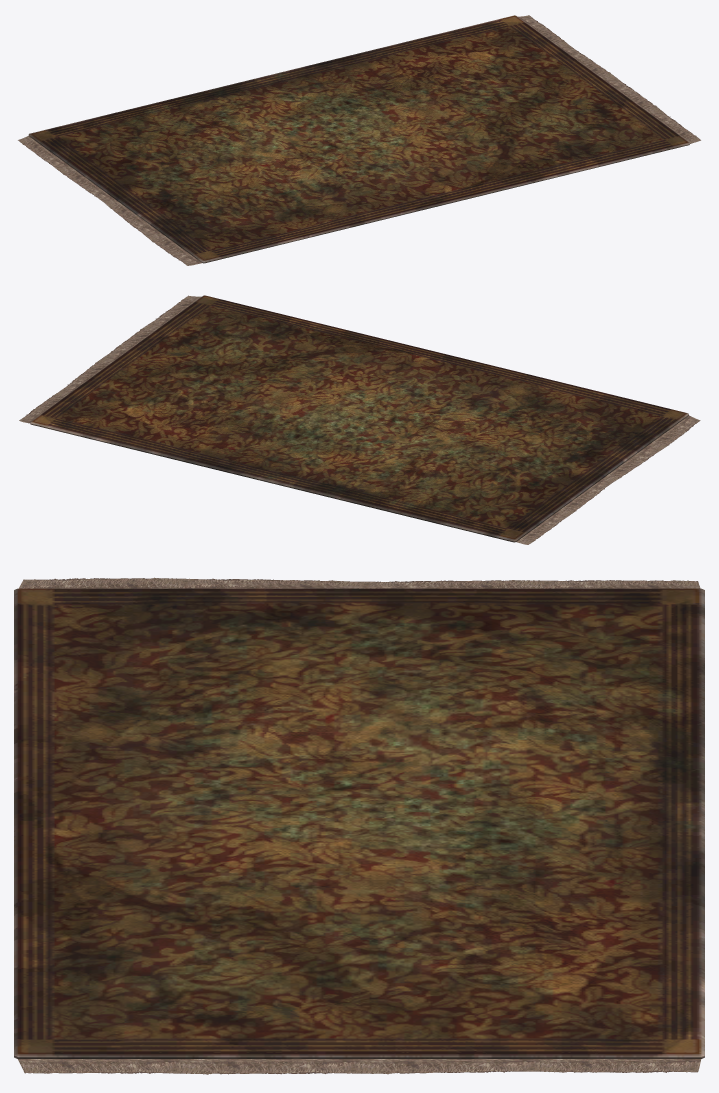
File: Carpet_C_dirty.obj
The picture shows the model from 3 angles, top to bottom: view 1: azimuth 30°, elevation 25°; view 2: azimuth 150°, elevation 25°; view 3: azimuth 270°, elevation 25°; orthographic projection. The views are drawn at different scales.
Parts seen in each view (by area): view 1: Carpet_C; view 2: Carpet_C; view 3: Carpet_C.
Boxes of the visible parts, <box> form: Carpet_C: <box>18,15,700,265</box>; Carpet_C: <box>19,295,700,544</box>; Carpet_C: <box>14,577,704,1074</box>.
Bounding box in the file's own units: 331 × 5.1 × 191.
1 material, 1 textured.
